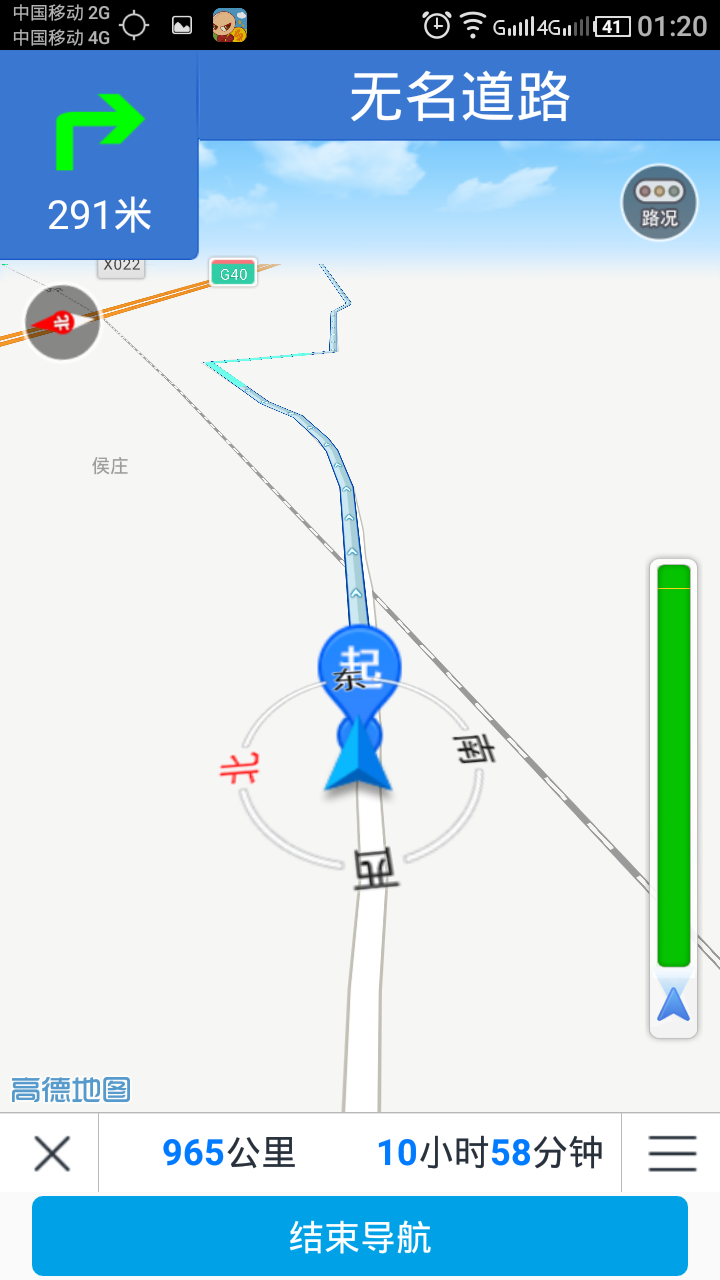imgbutton: (612, 158, 700, 245), (632, 1126, 713, 1181), (17, 1122, 83, 1185)
imgview: (10, 267, 712, 1061)
